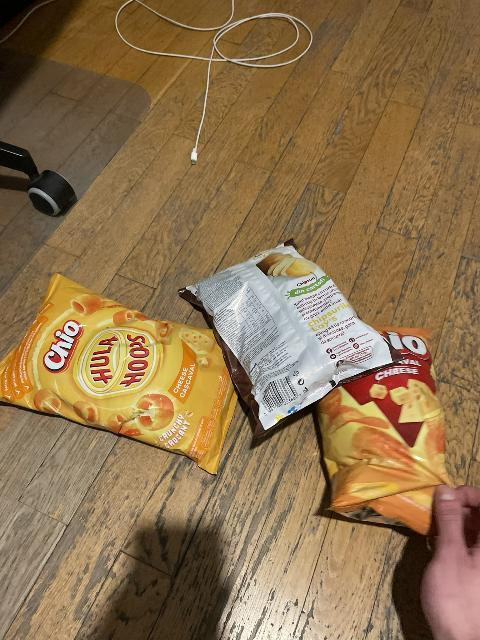Chio Cascaval 125g: (319, 326, 451, 536)
Chio Hula Hoops Cheese 70g: (0, 273, 247, 472)
Lays Beef Grilled Ribs 125g: (180, 238, 407, 440)
